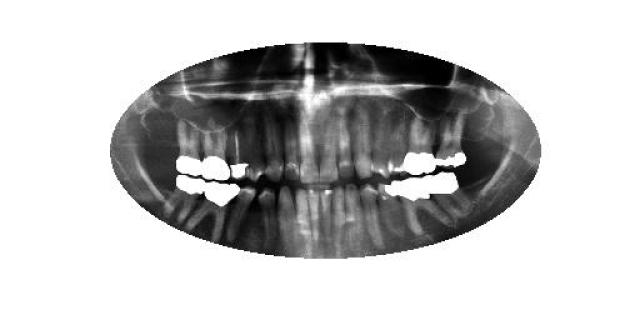Fillings: (185, 182, 244, 242), (392, 176, 452, 232), (163, 174, 205, 224), (428, 172, 472, 216), (404, 115, 435, 175), (435, 114, 465, 170), (175, 115, 201, 177), (202, 124, 230, 181), (376, 182, 405, 236)
Implant: (229, 126, 246, 179)
